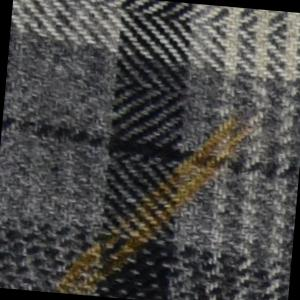Oil Stain: (45, 95, 269, 300)
